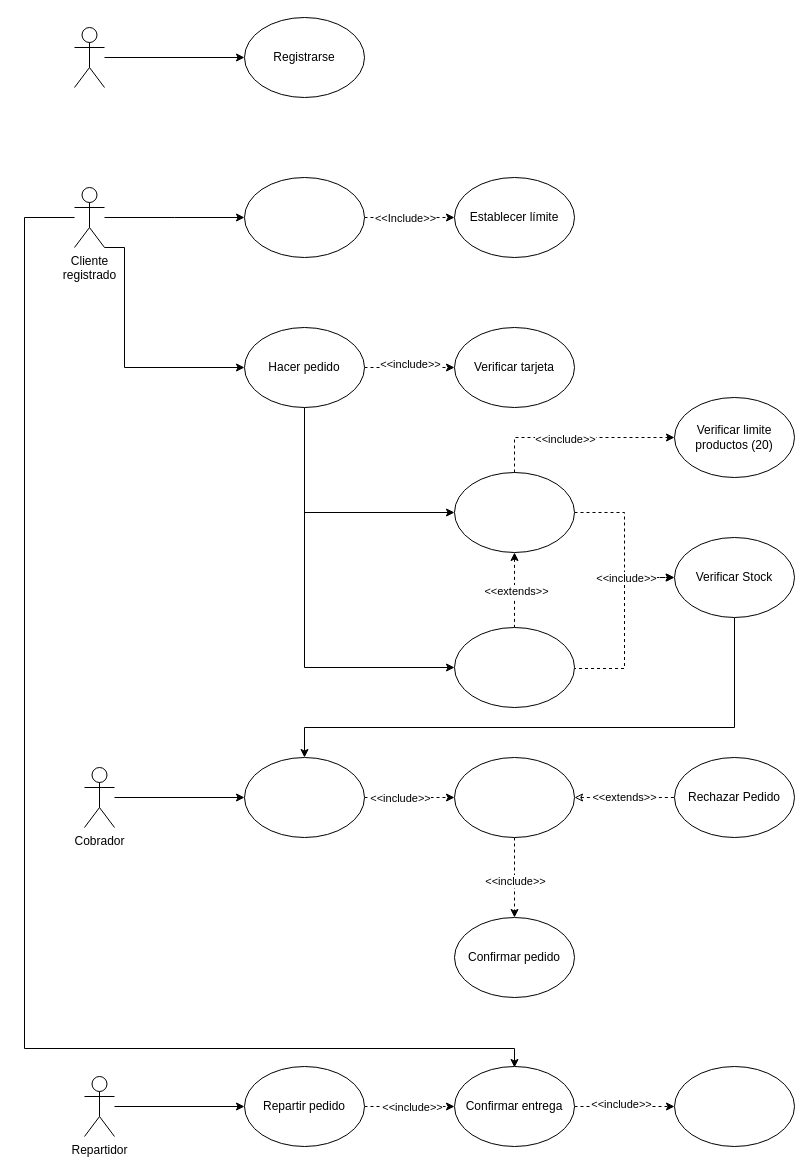
Some shapes in this 812 by 1175 pixel diagram are drawn without their labels. The shapes that lost their labels are listed below. From the top down, each one's box as (x1, y1, x2, y2) in pixels, then its label:
(74, 26, 104, 88): Cliente no registrado
(244, 176, 364, 258): Asociar tarjeta
(454, 472, 574, 552): Pedido simple
(454, 626, 574, 708): Pedido compuesto
(244, 756, 364, 838): Realizar Cobro
(454, 756, 574, 838): Verificar cuentas
(674, 1066, 794, 1146): Confirmar estado
